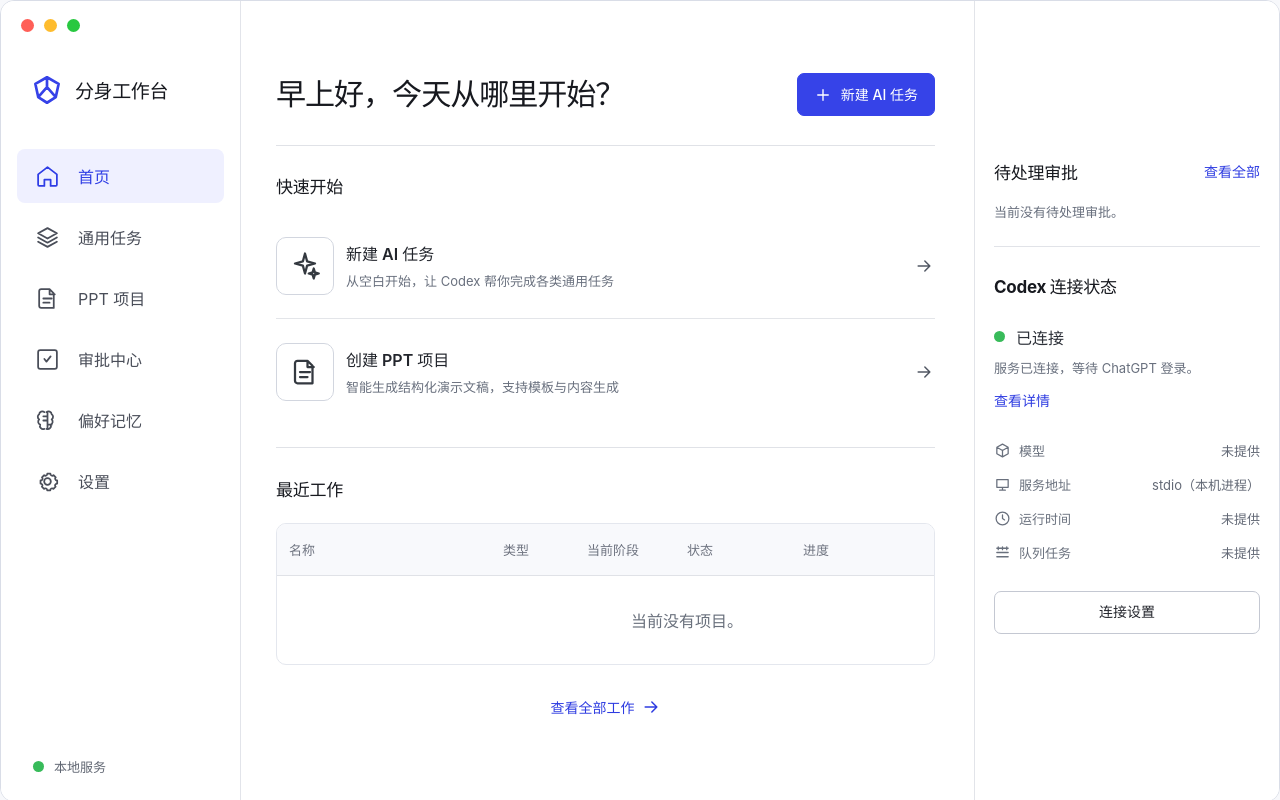
Test case: shared Codex connection UI › shows a connected service while requiring login before starting tasks
Expected: the text "已连接" is shown, [994,328,1064,348]
Expected: the text "服务已连接，等待 ChatGPT 登录。" is shown, [994,360,1200,376]
Click the link "通用任务": x=88, y=237 [35,224,142,250]
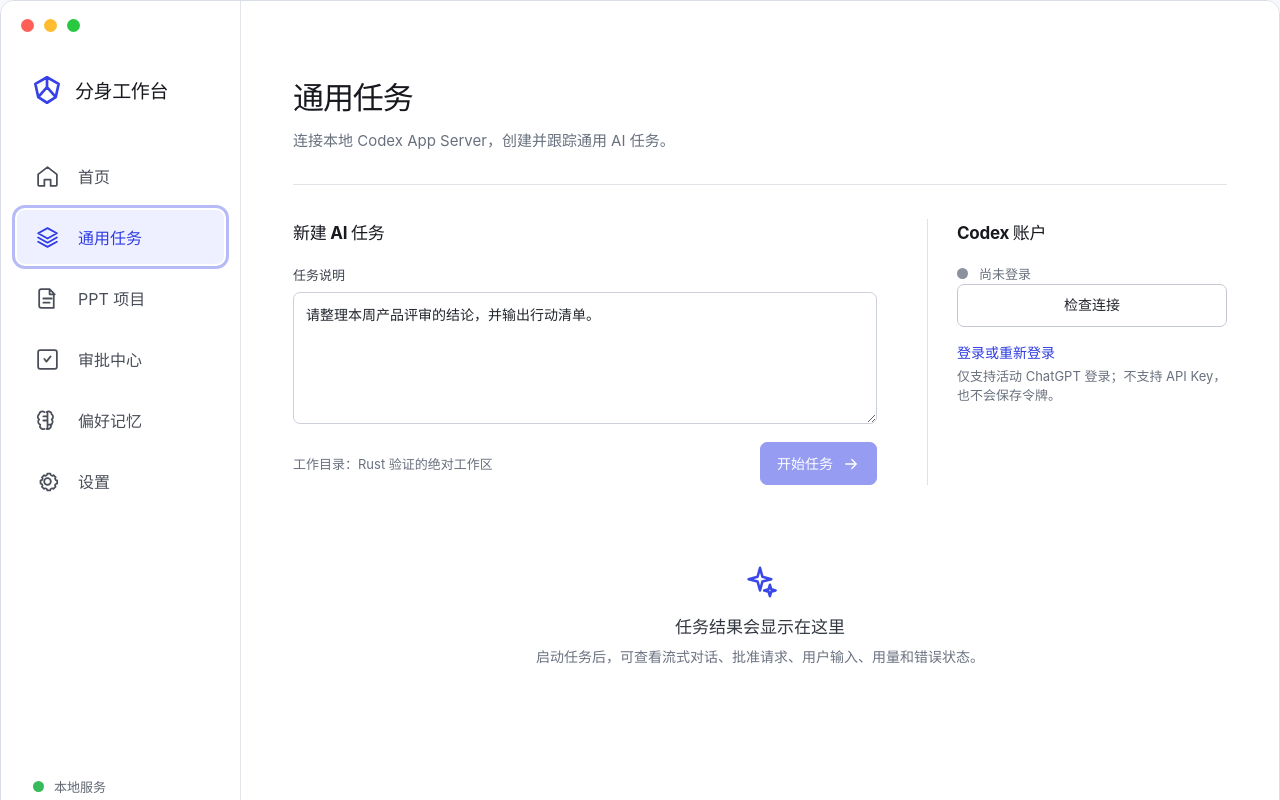
Result: the text "尚未登录" is shown at [957,266,1031,282]
Result: the button "开始任务" is disabled at [760,442,877,485]
